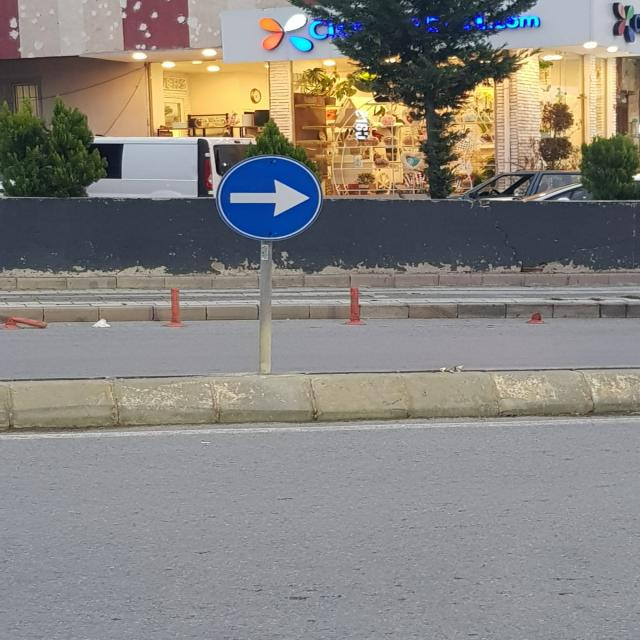Turn Right: (216, 155, 329, 239)
